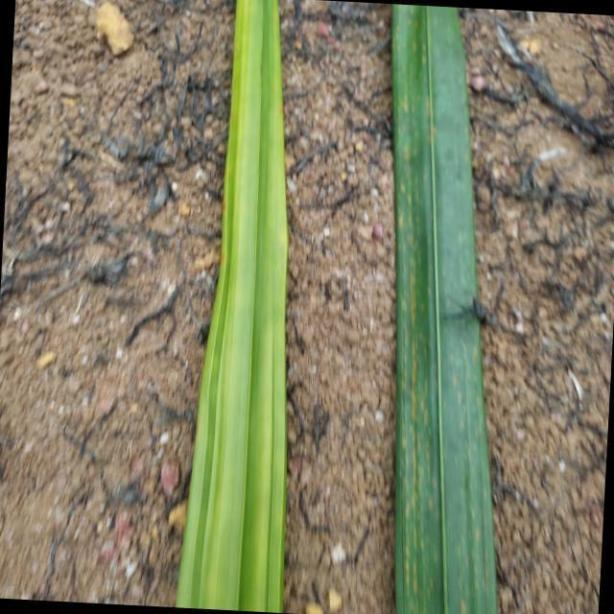nitrogen: (176, 0, 291, 614)
